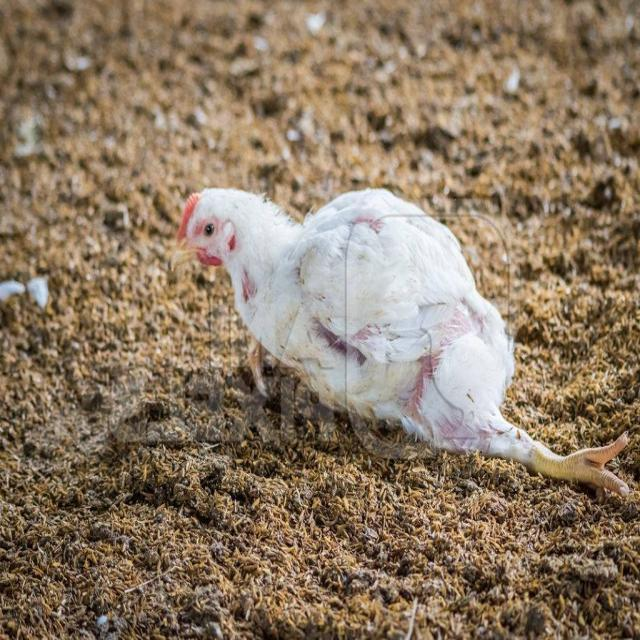AbNormal: (180, 187, 630, 496)
